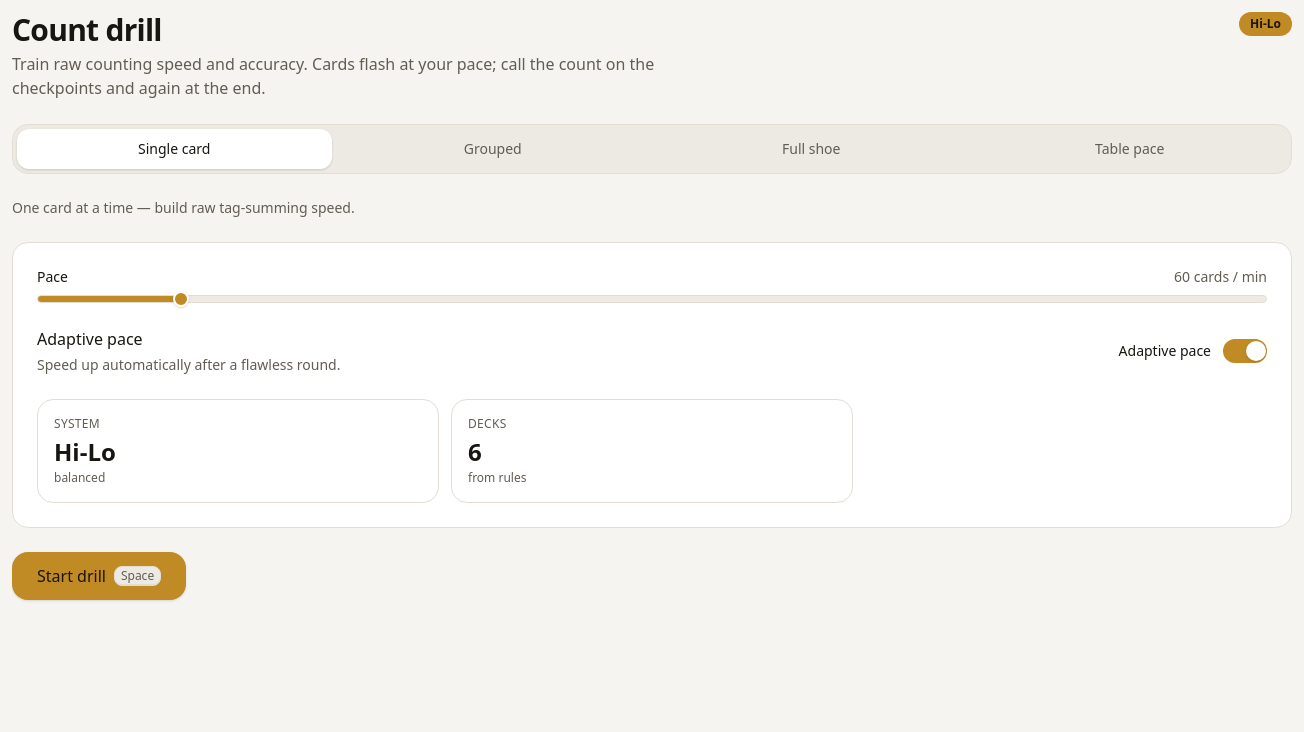
Test: CountDrill › starts flashing and shows the beat progress readout
Click the button "Start drill Space": coordinates (99, 576) [12,552,186,600]
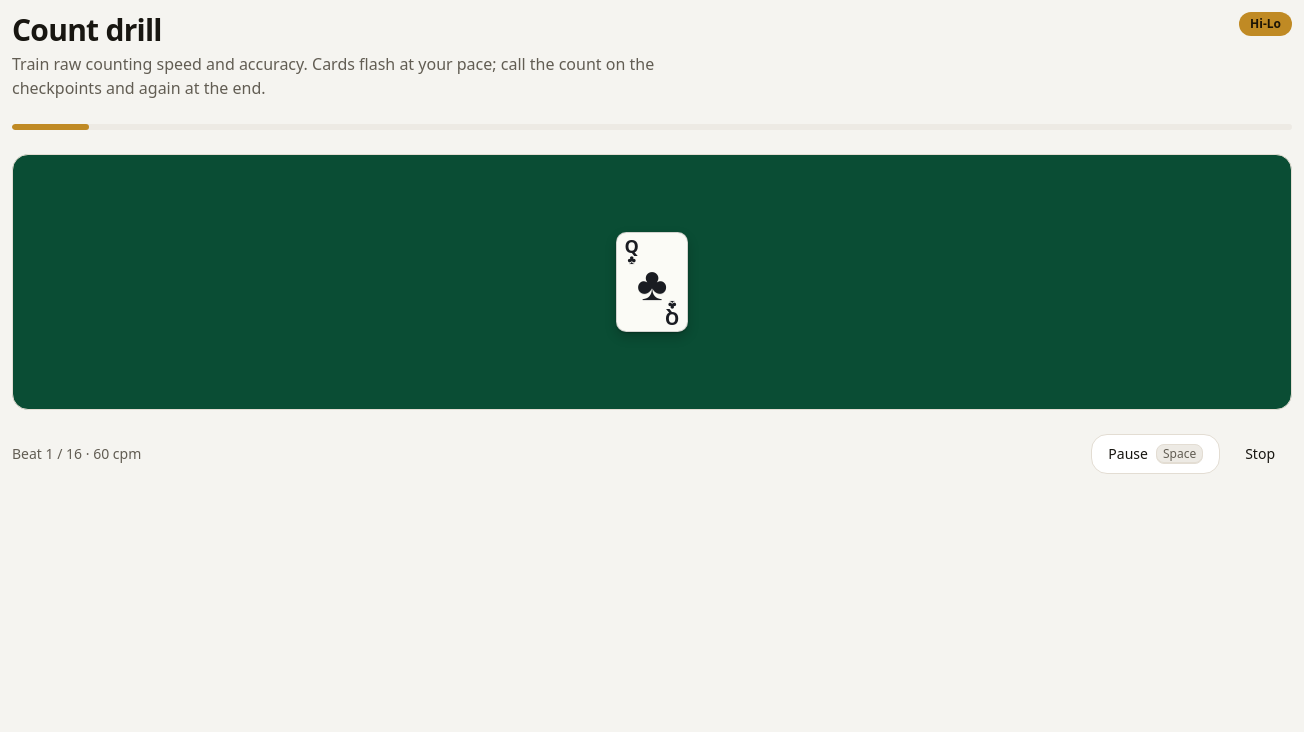
Check: the text "Beat 1 / 16 · 60 cpm" is shown, box [12,444,141,464]
Check: the button "Pause Space" is shown, box [1091,434,1220,474]
